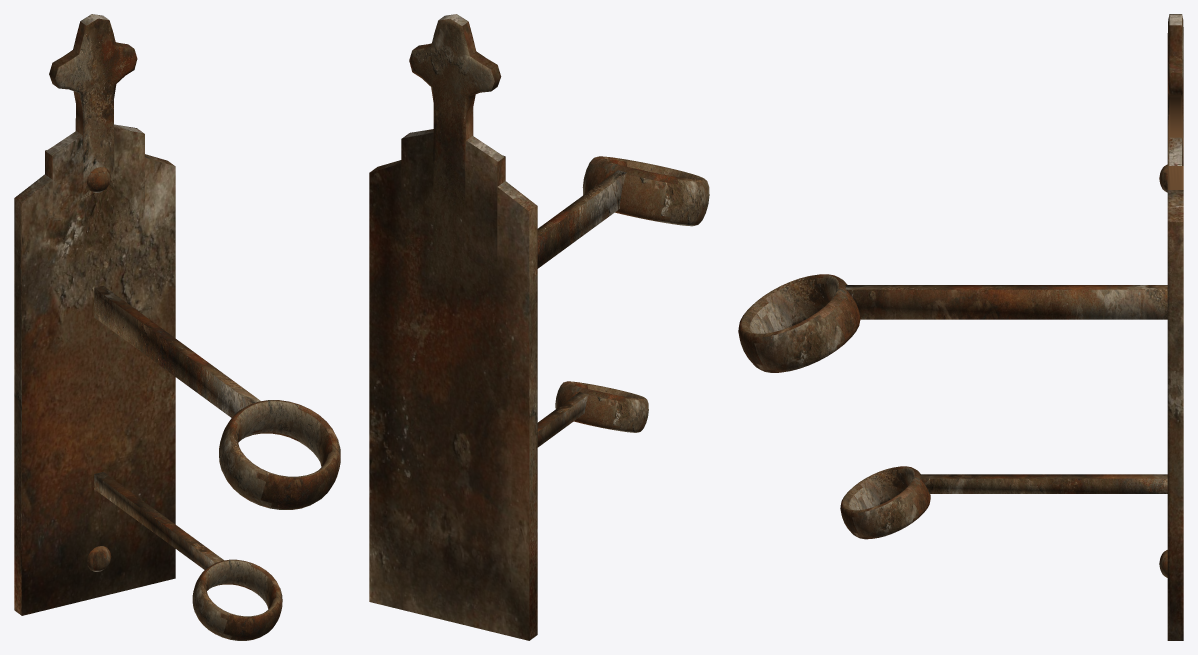
The model's file is torch_holder.obj.
The picture shows the model from 3 angles, left to right: view 1: azimuth 30°, elevation 25°; view 2: azimuth 150°, elevation 25°; view 3: azimuth 270°, elevation 25°; orthographic projection. The views are drawn at different scales.
Visible parts, largest first — view 1: torch_sconce; view 2: torch_sconce; view 3: torch_sconce.
Boxes of the visible parts, x1,y1,x2,y2 form: torch_sconce: (14, 14, 340, 640); torch_sconce: (369, 14, 709, 640); torch_sconce: (738, 14, 1183, 640).
Bounding box in the file's own units: 8.86 × 31.88 × 21.89.
